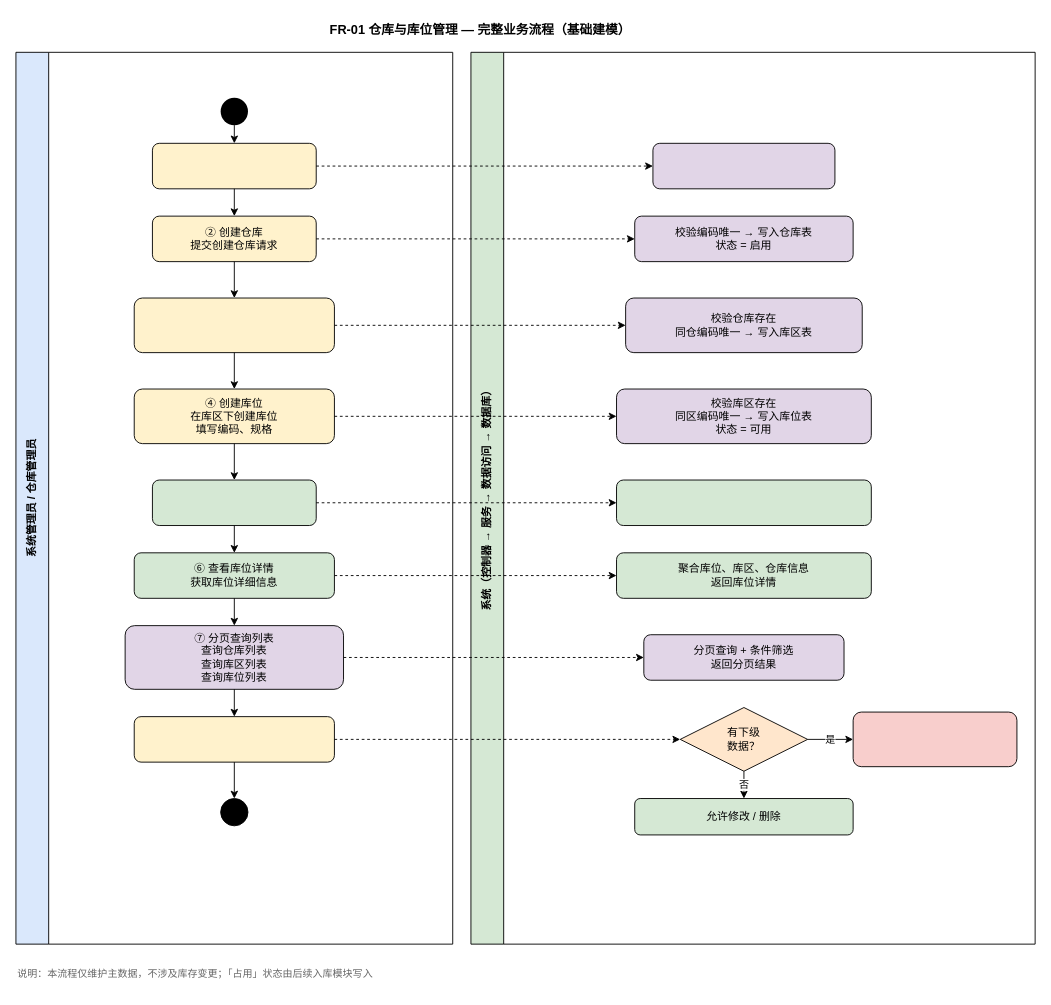
Some shapes in this 1051 by 1005 pixel diagram are drawn without their labels. The centre of each missing label's shape, as x and y in pixels:
① 登录系统 认证登录，获取访问令牌: the point at 234,165
③ 创建库区 在仓库下创建库区 类型：存储区 / 拣货区: the point at 233,325
⑤ 查看库位视图 获取库位树形结构: the point at 234,502
⑧ 修改 / 停用 / 删除 有下级数据则拒绝: the point at 233,739
拒绝：仓库仍有库区 库区仍有库位 库位已被占用: the point at 934,739
查询仓库、库区、库位 组装库位树视图并返回: the point at 743,502
校验账号，签发访问令牌: the point at 743,165
